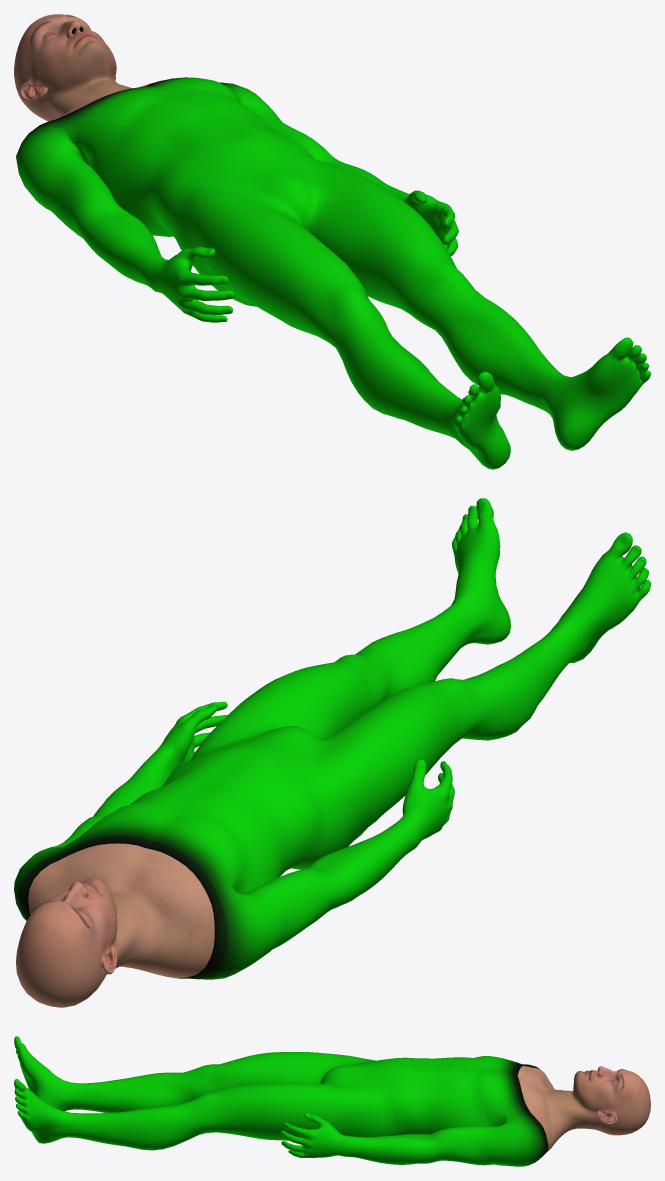
Rendered from man.fbx.
The picture shows the model from 3 angles, top to bottom: view 1: azimuth 30°, elevation 25°; view 2: azimuth 150°, elevation 25°; view 3: azimuth 270°, elevation 25°; orthographic projection. The views are drawn at different scales.
Visible parts, largest first — view 1: pasted__pasted__head_lod2_mesh; view 2: pasted__pasted__head_lod2_mesh; view 3: pasted__pasted__head_lod2_mesh.
Part boxes in pixels (box(x1,y1,x2,y2)): pasted__pasted__head_lod2_mesh: box(14, 14, 650, 469); pasted__pasted__head_lod2_mesh: box(14, 498, 650, 1007); pasted__pasted__head_lod2_mesh: box(14, 1036, 650, 1166).
Size of the model in its own units: 53.79 by 27.79 by 177.
